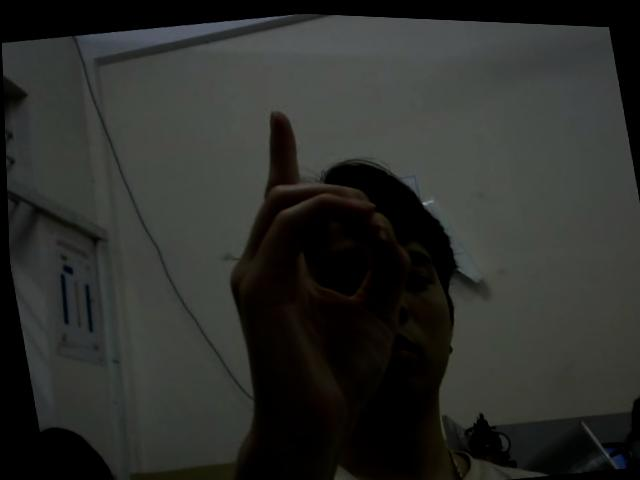D: (195, 88, 440, 449)
